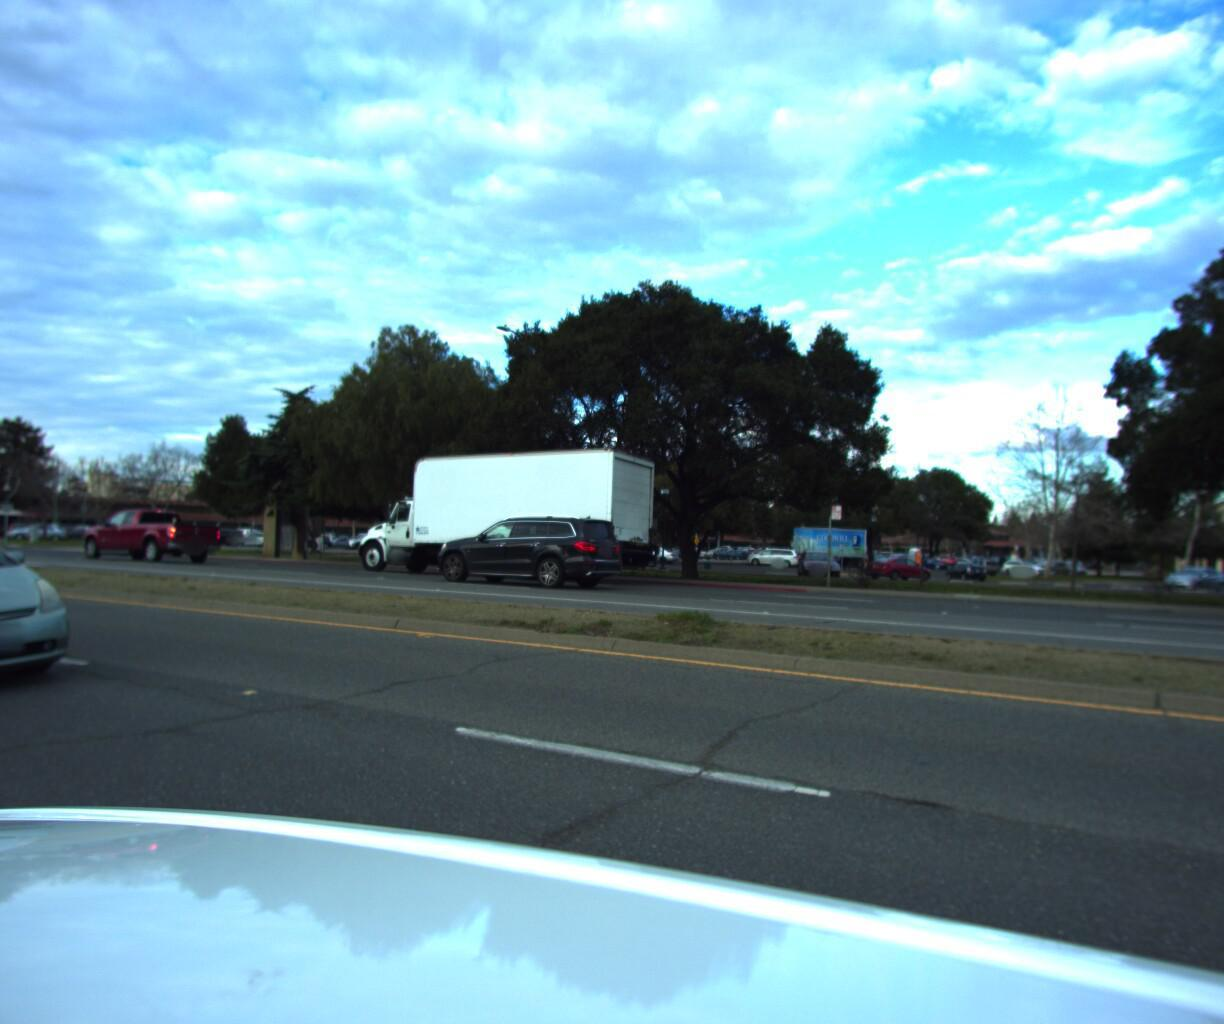car: (428, 509, 630, 587), (72, 506, 222, 561), (1, 517, 68, 535), (190, 525, 254, 542), (341, 527, 395, 545)
truck: (348, 440, 667, 585)
